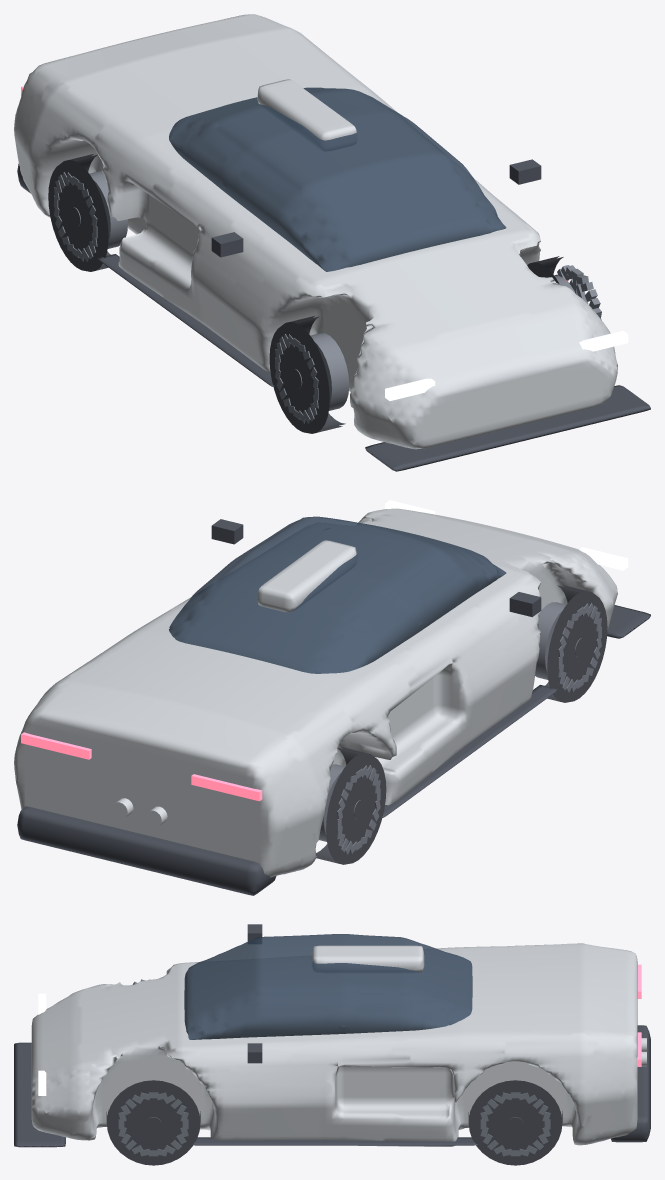
File: vanguard.glb
3 renders of one model, top to bottom at view 1: azimuth 30°, elevation 25°; view 2: azimuth 150°, elevation 25°; view 3: azimuth 270°, elevation 25°, orthographic. The views are drawn at different scales.
Visible parts, largest first — view 1: Bodywork, CanopyGlass, TireRubber, CarbonAero (×2), ForgedRim, HeadlightLED; view 2: Bodywork, CanopyGlass, CarbonAero (×2), TireRubber, ForgedRim, TaillightLED, HeadlightLED; view 3: Bodywork, CanopyGlass, TireRubber, CarbonAero (×2), ForgedRim, HeadlightLED.
Boxes of the visible parts, left/top/right/bottom form: Bodywork: left=14, top=14, right=617, bottom=449; CanopyGlass: left=169, top=87, right=506, bottom=271; TireRubber: left=48, top=154, right=563, bottom=433; CarbonAero (×2): left=17, top=159, right=650, bottom=471; ForgedRim: left=54, top=171, right=601, bottom=423; HeadlightLED: left=385, top=330, right=628, bottom=400; Bodywork: left=14, top=508, right=617, bottom=877; CanopyGlass: left=169, top=516, right=506, bottom=673; CarbonAero (×2): left=17, top=519, right=650, bottom=895; TireRubber: left=316, top=585, right=607, bottom=864; ForgedRim: left=319, top=602, right=601, bottom=854; TaillightLED: left=21, top=732, right=262, bottom=801; HeadlightLED: left=385, top=500, right=628, bottom=570; Bodywork: left=31, top=943, right=637, bottom=1146; CanopyGlass: left=184, top=934, right=472, bottom=1039; TireRubber: left=106, top=1080, right=562, bottom=1165; CarbonAero (×2): left=14, top=924, right=650, bottom=1147; ForgedRim: left=118, top=979, right=550, bottom=1156; HeadlightLED: left=38, top=993, right=46, bottom=1095.
Bounding box in the file's own units: 2.26 × 1.31 × 4.75.
